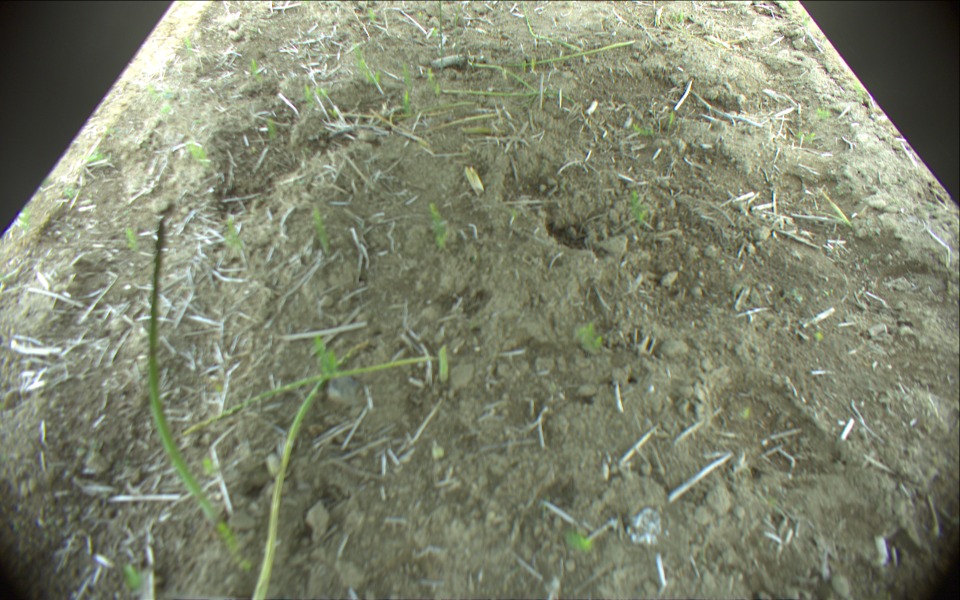aspa: (251, 340, 371, 600), (147, 218, 224, 529), (184, 354, 436, 438), (505, 37, 636, 66), (521, 1, 582, 50), (441, 90, 579, 108), (468, 63, 536, 92), (435, 1, 445, 74)
